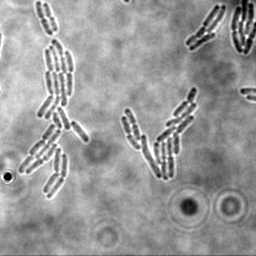Dividing: (34, 0, 53, 37), (41, 2, 58, 33)
Microcolony: (18, 39, 90, 199), (120, 86, 198, 181), (184, 4, 227, 52), (230, 0, 256, 56)
